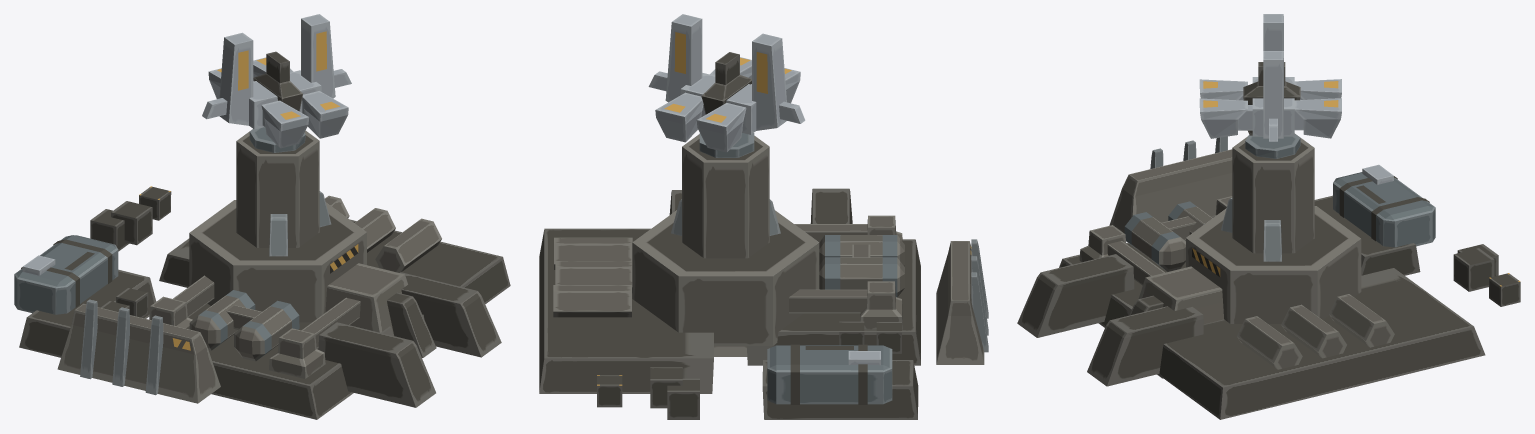
The model's file is bastion2.FBX.
3 views of the same model, side by side, from view 1: azimuth 30°, elevation 25°; view 2: azimuth 150°, elevation 25°; view 3: azimuth 270°, elevation 25° (orthographic). The views are drawn at different scales.
Parts seen in each view (by area): view 1: bastion2, a; view 2: bastion2, a; view 3: bastion2, a.
Part boxes in pixels (x1,y1,x2,y2): bastion2: [14, 127, 510, 419]; a: [202, 14, 351, 148]; bastion2: [539, 133, 988, 419]; a: [648, 14, 805, 152]; bastion2: [1017, 133, 1520, 419]; a: [1199, 14, 1341, 141].
Size of the model in its own units: 162 by 163 by 105.
